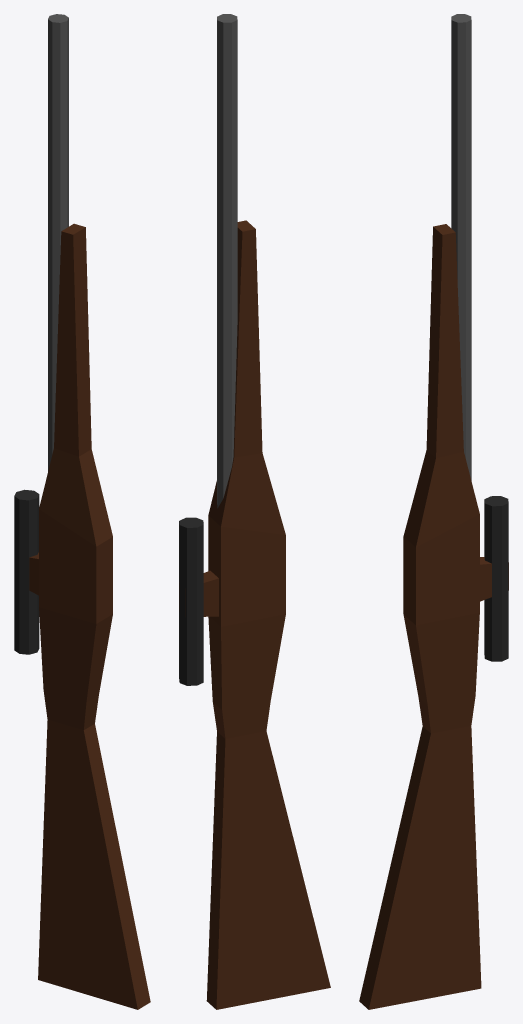
File: sniper.glb
The picture shows the model from 3 angles, left to right: view 1: azimuth 90°, elevation 25°; view 2: azimuth 150°, elevation 25°; view 3: azimuth 330°, elevation 25°; orthographic projection. The views are drawn at different scales.
Parts seen in each view (by area): view 1: Cube, Cylinder, Cylinder.001; view 2: Cube, Cylinder, Cylinder.001; view 3: Cube, Cylinder, Cylinder.001.
Boxes of the visible parts, left/top/right/bottom form: Cube: left=29, top=223, right=150, bottom=1009; Cylinder: left=48, top=14, right=68, bottom=471; Cylinder.001: left=14, top=489, right=39, bottom=654; Cube: left=179, top=220, right=330, bottom=1009; Cylinder: left=217, top=14, right=237, bottom=508; Cylinder.001: left=179, top=517, right=203, bottom=685; Cube: left=359, top=224, right=508, bottom=1009; Cylinder: left=451, top=14, right=471, bottom=480; Cylinder.001: left=484, top=496, right=508, bottom=661.
Size of the model in its own units: 0.7686 by 7.7 by 0.991.
